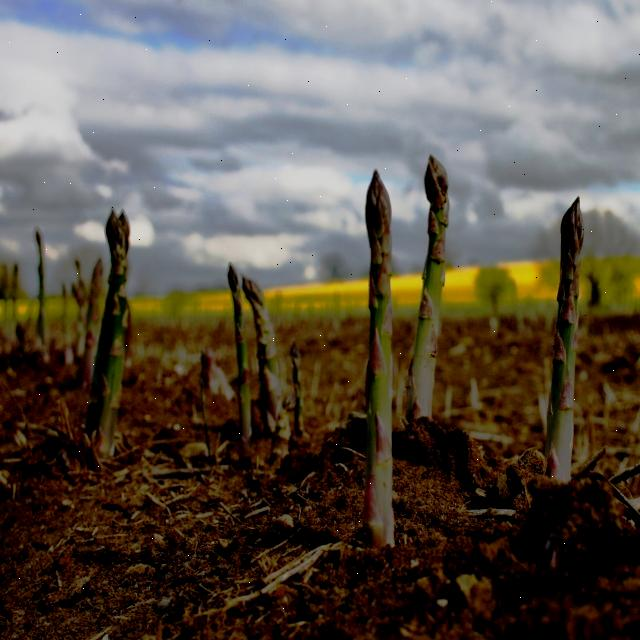aspargus: (364, 175, 396, 551), (545, 199, 582, 487), (410, 158, 449, 420)
